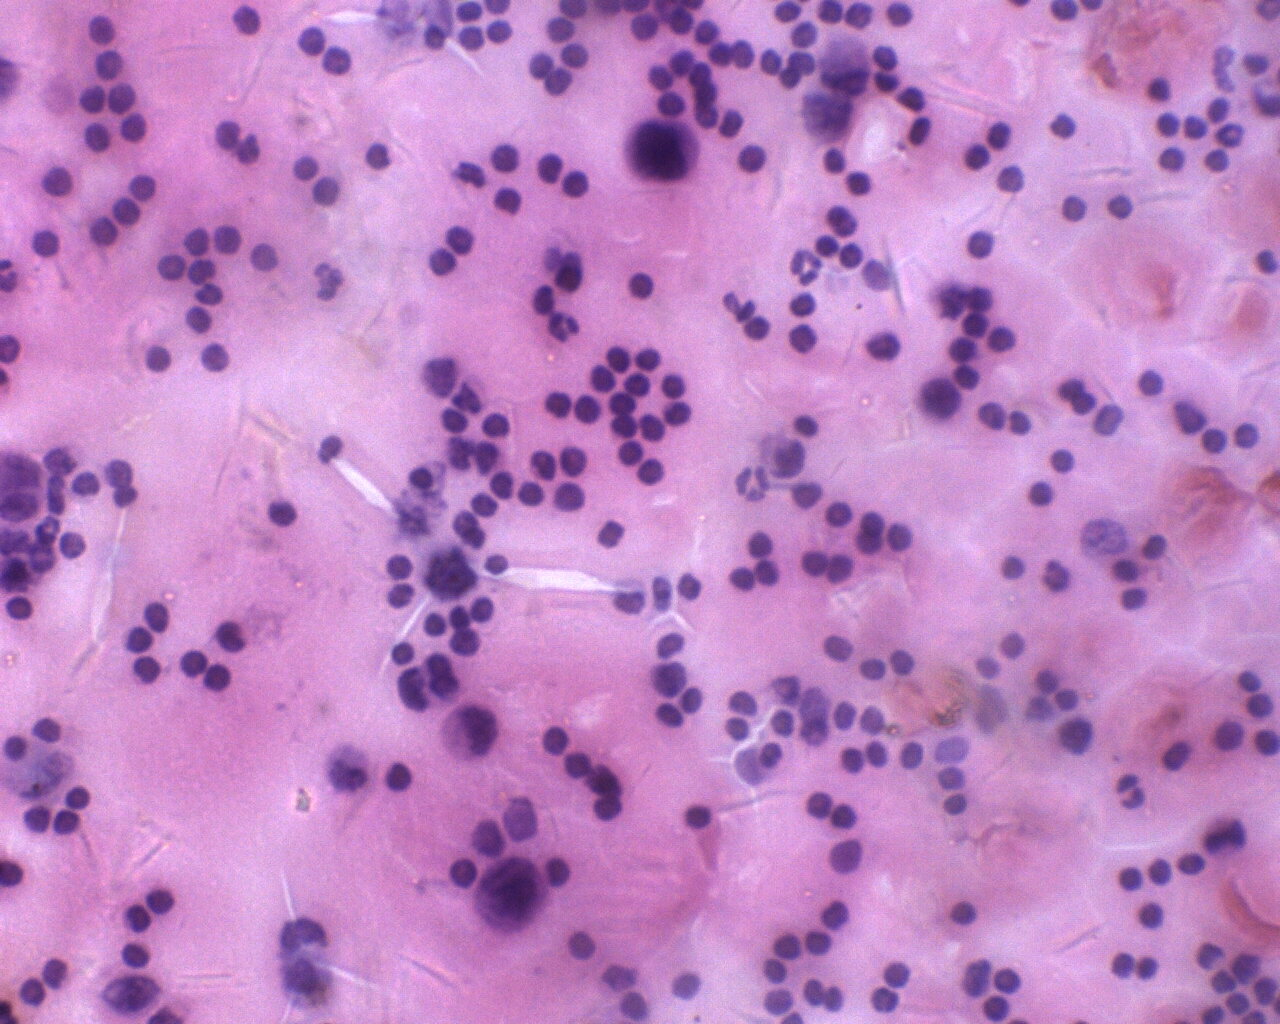ab: (473, 854, 551, 939), (621, 115, 707, 188)
lymph: (260, 494, 308, 533), (78, 118, 117, 158), (317, 42, 356, 80), (1134, 895, 1170, 936), (380, 758, 415, 797), (734, 140, 771, 176), (623, 267, 659, 303), (962, 228, 999, 263), (822, 496, 859, 532), (143, 883, 180, 918), (118, 622, 156, 656), (1102, 189, 1135, 229), (946, 894, 980, 931), (30, 226, 64, 263), (559, 165, 594, 201), (571, 391, 604, 427), (424, 242, 457, 280), (540, 719, 571, 759), (212, 222, 247, 256), (48, 805, 83, 839), (802, 923, 838, 956), (959, 141, 996, 173), (141, 341, 174, 375), (489, 140, 523, 173), (842, 165, 876, 199), (634, 456, 668, 489), (683, 799, 716, 833), (1048, 443, 1077, 475), (1200, 425, 1227, 453)
neutro: (1109, 766, 1151, 815), (784, 247, 827, 289), (545, 306, 582, 345), (1215, 117, 1248, 150)
